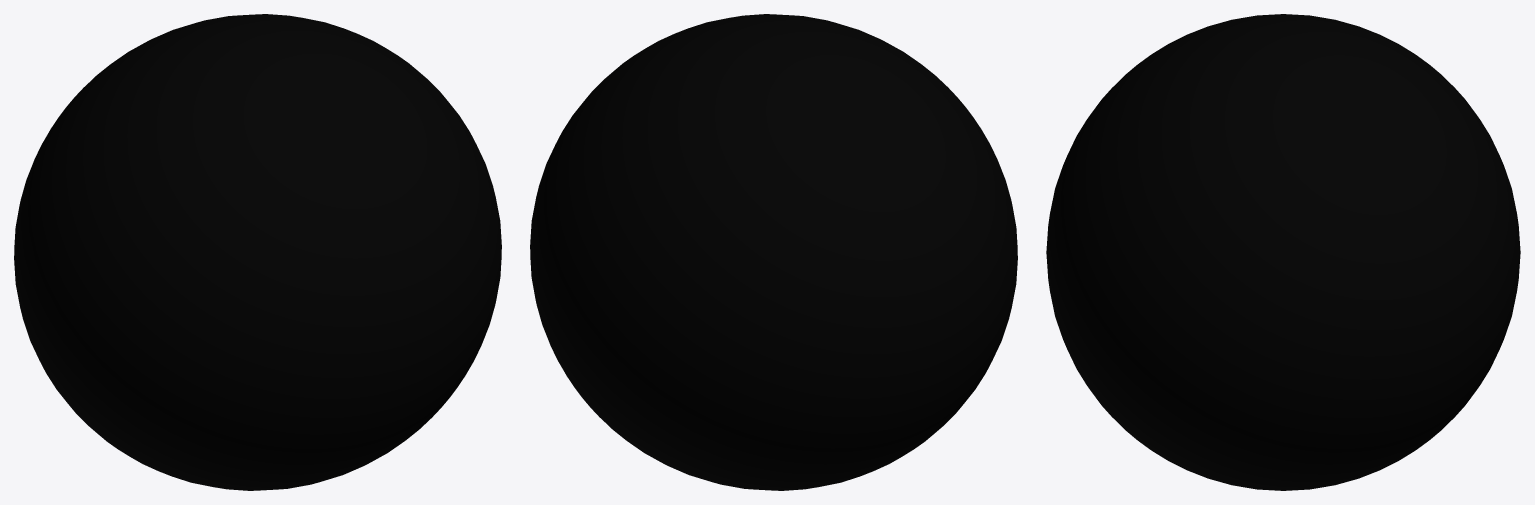
The model's file is eye.fbx.
3 renders of one model, left to right at view 1: azimuth 30°, elevation 25°; view 2: azimuth 150°, elevation 25°; view 3: azimuth 270°, elevation 25°, orthographic.
Visible parts, largest first — view 1: root; view 2: root; view 3: root.
Boxes of the visible parts, box(x1,y1,x2,y2) form: root: box(14, 14, 501, 490); root: box(530, 14, 1017, 490); root: box(1046, 14, 1520, 490).
Bounding box in the file's own units: 0.4016 × 0.3888 × 0.3888.
Materials: 1 (1 with a texture image).
